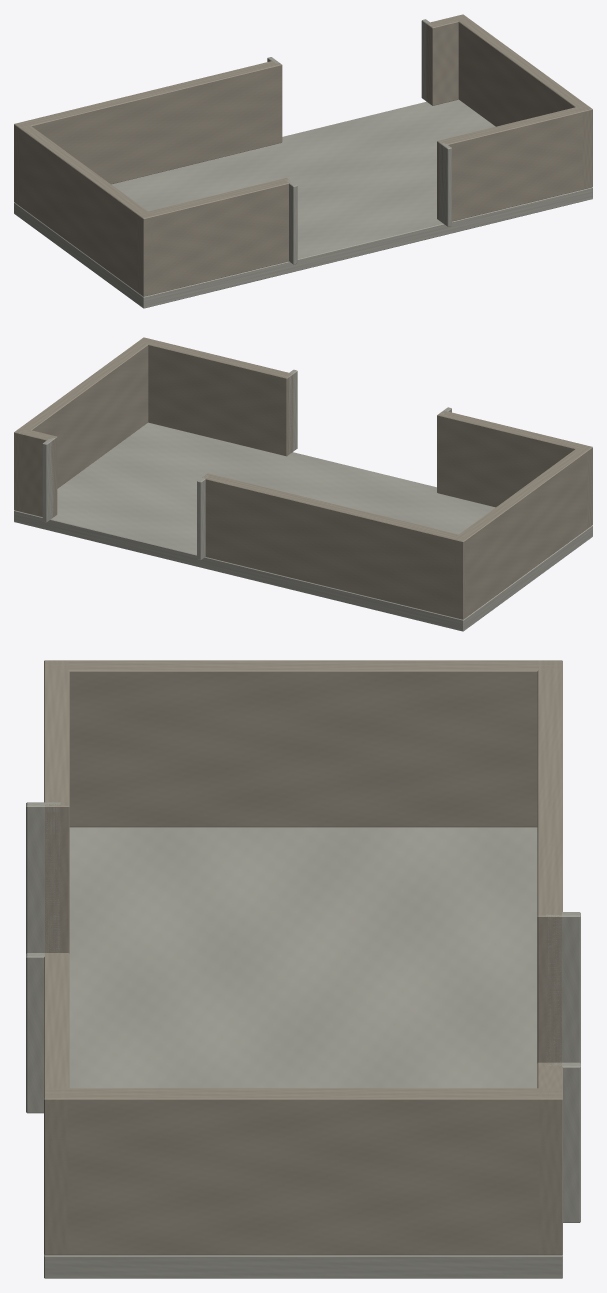
File: I09_TopLanding_visual.glb
The picture shows the model from 3 angles, top to bottom: view 1: azimuth 30°, elevation 25°; view 2: azimuth 150°, elevation 25°; view 3: azimuth 270°, elevation 25°; orthographic projection. The views are drawn at different scales.
Parts seen in each view (by area): view 1: I09_TopLanding__VIS_shell; view 2: I09_TopLanding__VIS_shell; view 3: I09_TopLanding__VIS_shell.
Part boxes in pixels (box(x1,y1,x2,y2)): I09_TopLanding__VIS_shell: box(14, 14, 592, 308); I09_TopLanding__VIS_shell: box(14, 337, 592, 631); I09_TopLanding__VIS_shell: box(26, 660, 580, 1278).
Bounding box in the file's own units: 24 × 4.6 × 12.82.
1 material, 1 textured.
